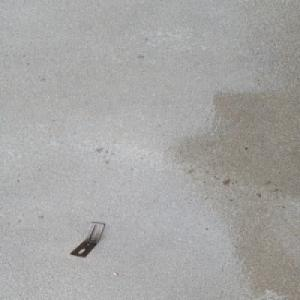MetalPart: (69, 221, 107, 258)
